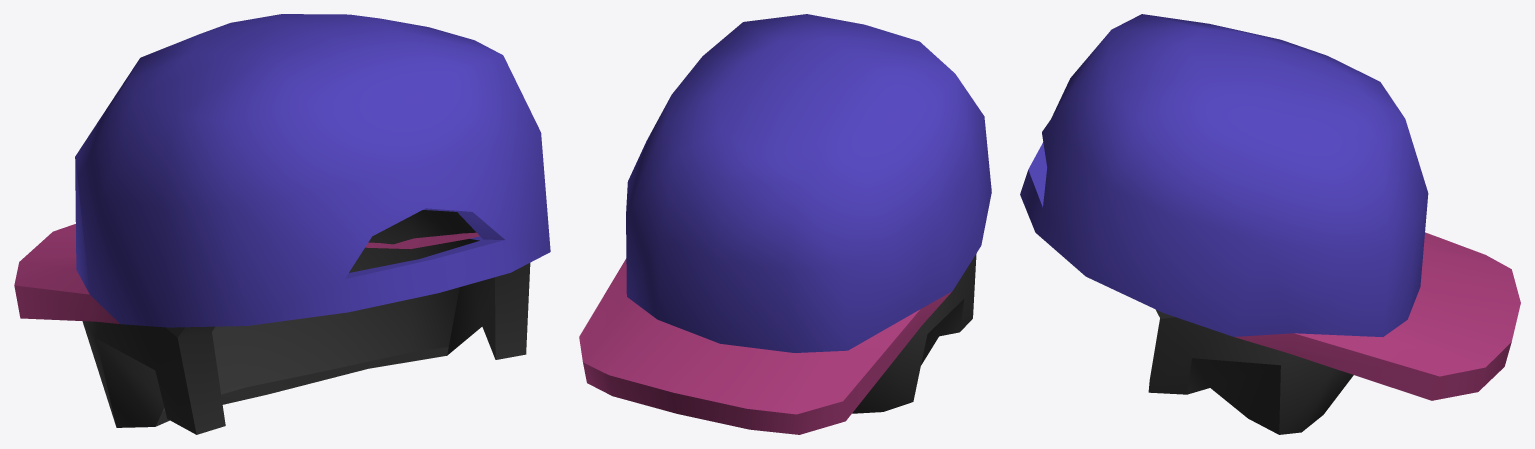
Rendered from Male_Hat_02_v4.fbx.
3 views of the same model, side by side, from view 1: azimuth 30°, elevation 25°; view 2: azimuth 150°, elevation 25°; view 3: azimuth 270°, elevation 25° (orthographic). The views are drawn at different scales.
Parts seen in each view (by area): view 1: Male_Hat_02_v4; view 2: Male_Hat_02_v4; view 3: Male_Hat_02_v4.
Boxes of the visible parts, bbox=[...] form: Male_Hat_02_v4: bbox=[14, 14, 550, 434]; Male_Hat_02_v4: bbox=[579, 14, 991, 434]; Male_Hat_02_v4: bbox=[1020, 14, 1520, 434].
Bounding box in the file's own units: 55.5 × 57.66 × 76.03.
